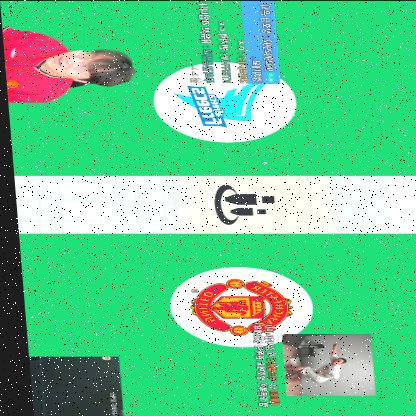donation: (244, 320, 372, 408)
streamer: (2, 26, 138, 102)
